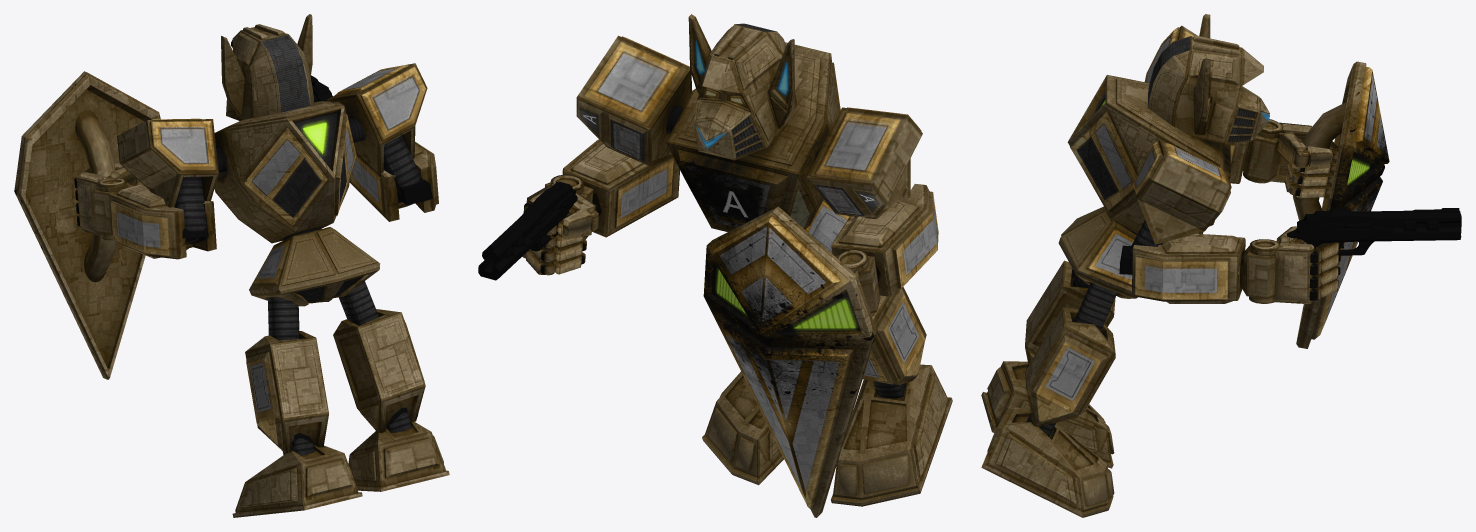
The model's file is shogun_warlord.glb.
3 renders of one model, left to right at view 1: azimuth 30°, elevation 25°; view 2: azimuth 150°, elevation 25°; view 3: azimuth 270°, elevation 25°, orthographic. The views are drawn at different scales.
Visible parts, largest first — view 1: detail_0, turret03, L_arm, legB_01, legA_01, turret01-base, R_arm, legB_02, legA_02, turret02-arms, turret02-base; view 2: turret03, L_arm, detail_0, turret02-arms, turret01-base, legB_02, R_arm, legA_02, legB_01; view 3: turret02-arms, detail_0, turret01-base, turret03, legA_02, legA_01, R_arm, L_arm, legB_02, legB_01.
Part boxes in pixels (x1=…): detail_0: x1=214, y1=101, x2=380, y2=306; turret03: x1=14, y1=71, x2=160, y2=379; L_arm: x1=74, y1=118, x2=226, y2=259; legB_01: x1=245, y1=297, x2=328, y2=453; legA_01: x1=333, y1=281, x2=425, y2=432; turret01-base: x1=221, y1=14, x2=314, y2=120; R_arm: x1=327, y1=63, x2=427, y2=197; legB_02: x1=232, y1=433, x2=362, y2=517; legA_02: x1=348, y1=407, x2=449, y2=491; turret02-arms: x1=231, y1=40, x2=438, y2=221; turret02-base: x1=398, y1=180, x2=432, y2=205; turret03: x1=703, y1=206, x2=876, y2=517; L_arm: x1=807, y1=107, x2=938, y2=316; detail_0: x1=666, y1=42, x2=849, y2=253; turret02-arms: x1=478, y1=139, x2=679, y2=280; turret01-base: x1=688, y1=14, x2=796, y2=160; legB_02: x1=831, y1=364, x2=952, y2=506; R_arm: x1=576, y1=35, x2=692, y2=166; legA_02: x1=702, y1=371, x2=783, y2=485; legB_01: x1=863, y1=286, x2=926, y2=385; turret02-arms: x1=1132, y1=208, x2=1461, y2=303; detail_0: x1=1058, y1=75, x2=1230, y2=298; turret01-base: x1=1148, y1=14, x2=1269, y2=143; turret03: x1=1293, y1=61, x2=1389, y2=348; legA_02: x1=981, y1=407, x2=1114, y2=517; legA_01: x1=1025, y1=282, x2=1117, y2=426; R_arm: x1=1129, y1=140, x2=1231, y2=257; L_arm: x1=1144, y1=25, x2=1339, y2=198; legB_02: x1=981, y1=361, x2=1114, y2=468; legB_01: x1=1025, y1=260, x2=1115, y2=365.
Size of the model in its own units: 31.54 by 39.88 by 38.73.
2 materials, 1 textured.
